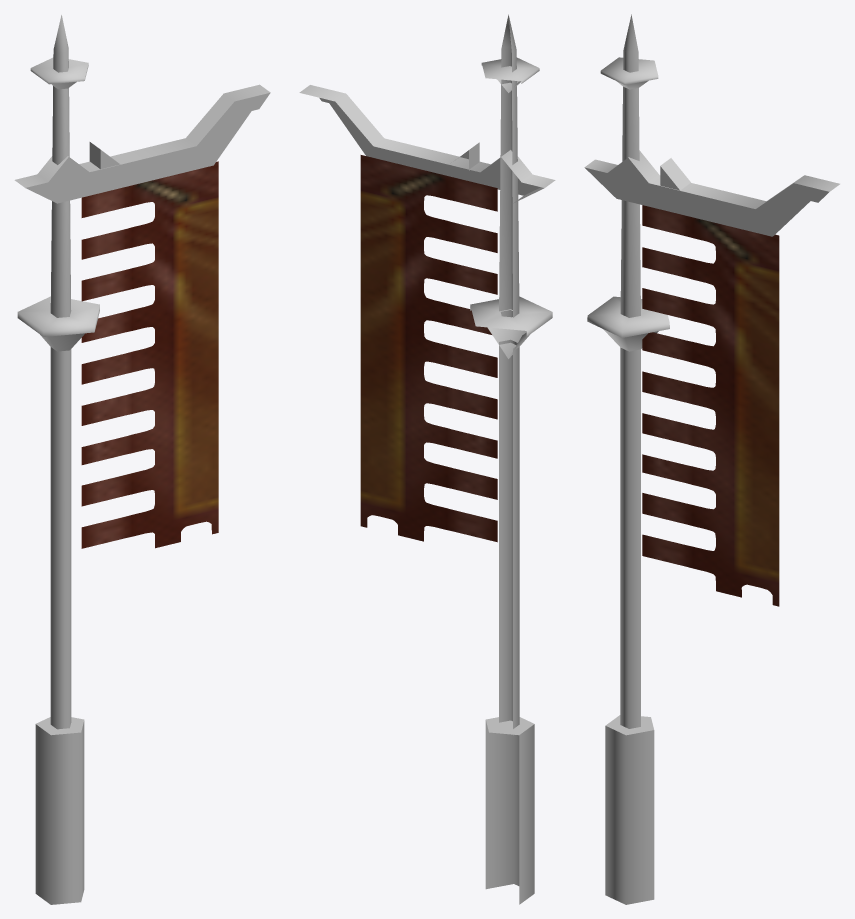
File: zc_jiangxia_qizi01.FBX
The picture shows the model from 3 angles, left to right: view 1: azimuth 30°, elevation 25°; view 2: azimuth 150°, elevation 25°; view 3: azimuth 330°, elevation 25°; orthographic projection.
Visible parts, largest first — view 1: zc_jiangxia_qizi01, zc_jiangxia_qigan; view 2: zc_jiangxia_qizi01, zc_jiangxia_qigan; view 3: zc_jiangxia_qizi01, zc_jiangxia_qigan.
Boxes of the visible parts, left/top/right/bottom form: zc_jiangxia_qizi01: left=81, top=161, right=218, bottom=548; zc_jiangxia_qigan: left=14, top=15, right=270, bottom=904; zc_jiangxia_qizi01: left=360, top=155, right=497, bottom=542; zc_jiangxia_qigan: left=299, top=14, right=555, bottom=904; zc_jiangxia_qizi01: left=642, top=205, right=779, bottom=606; zc_jiangxia_qigan: left=584, top=14, right=839, bottom=904.
Bounding box in the file's own units: 3.59 × 12.3 × 1.07.
